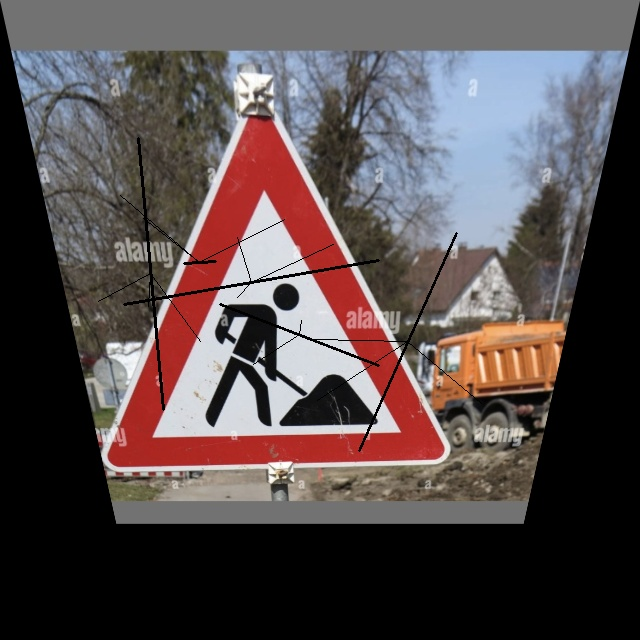Men_at_Work: (90, 124, 463, 458)
